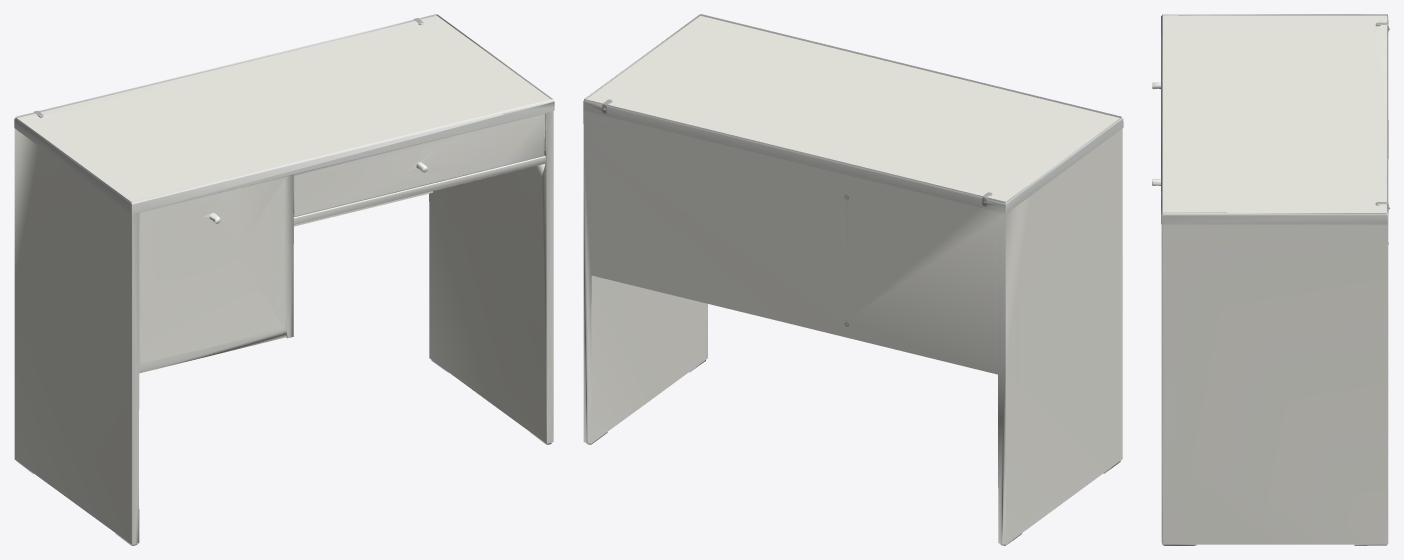
The model's file is syvde-tocador-blanco.glb.
3 views of the same model, side by side, from view 1: azimuth 30°, elevation 25°; view 2: azimuth 150°, elevation 25°; view 3: azimuth 270°, elevation 25° (orthographic). The views are drawn at different scales.
Parts seen in each view (by area): view 1: ProcessedMeshNode; view 2: ProcessedMeshNode; view 3: ProcessedMeshNode.
Part boxes in pixels (<box>): ProcessedMeshNode: <box>14,14,554,545</box>; ProcessedMeshNode: <box>583,14,1123,545</box>; ProcessedMeshNode: <box>1152,14,1389,545</box>.
Bounding box in the file's own units: 1 × 0.7816 × 0.5046.
2 materials, 2 textured.
